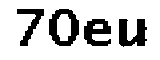0: (45, 5, 81, 50)
7: (12, 5, 46, 50)
e: (82, 16, 114, 52)
u: (116, 15, 150, 52)
